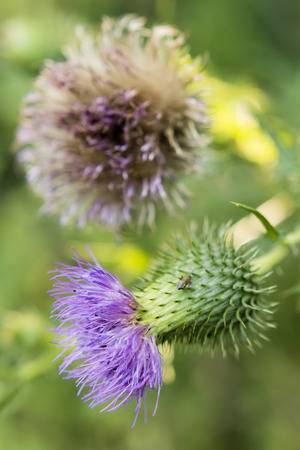thistle: (48, 225, 274, 422)
